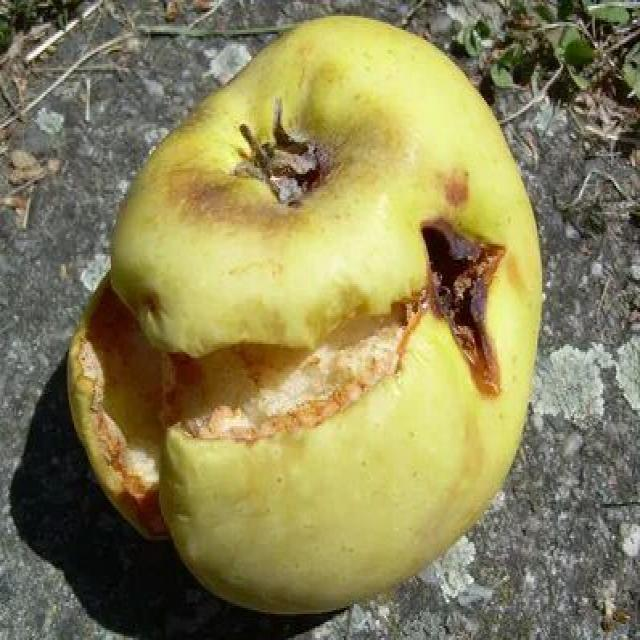Rotten: (66, 12, 552, 615)
